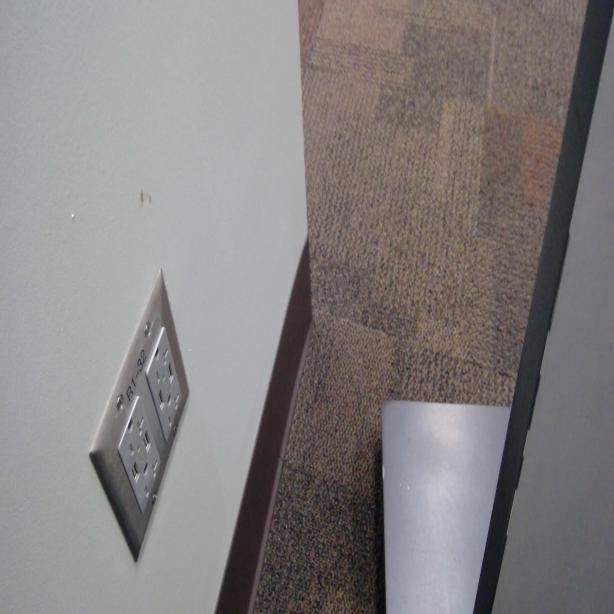typeb: (120, 409, 146, 456), (147, 341, 170, 384), (141, 455, 161, 499), (165, 389, 181, 430)
